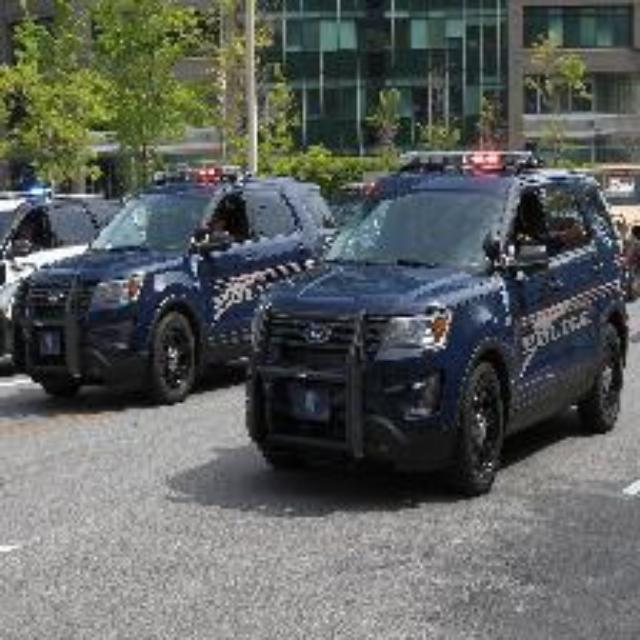emergency: (242, 153, 628, 501), (11, 168, 343, 404), (0, 189, 142, 371)
